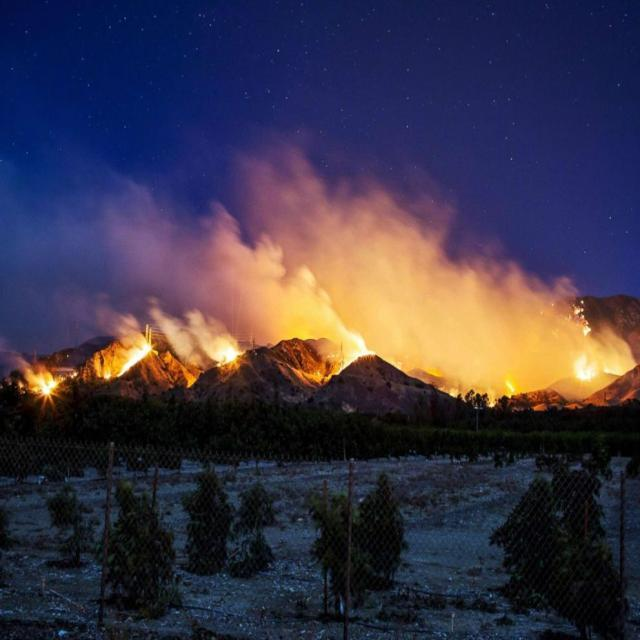Fire: (346, 334, 386, 374), (118, 347, 155, 381), (28, 378, 62, 407), (574, 352, 600, 386), (501, 374, 534, 399), (220, 348, 252, 370)
Smoke: (113, 191, 632, 363)
